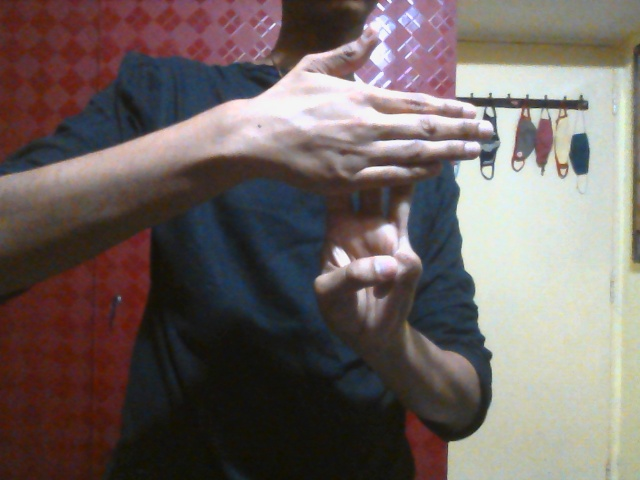M: (252, 22, 495, 362)
